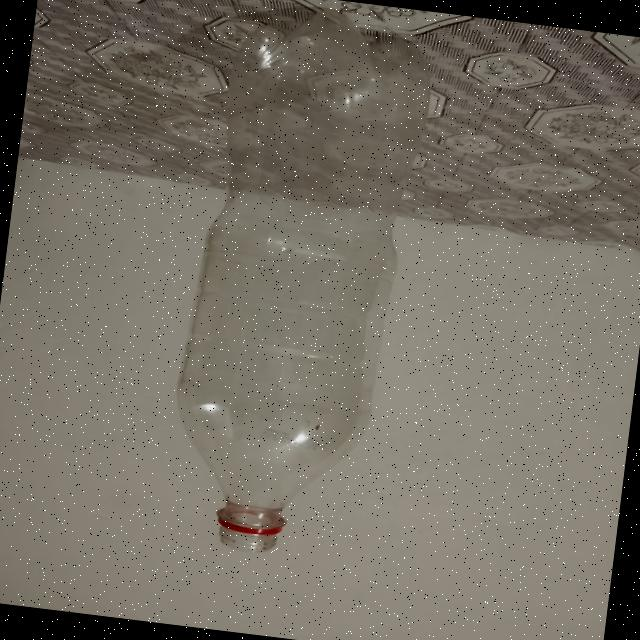bottle: (149, 0, 435, 574)
